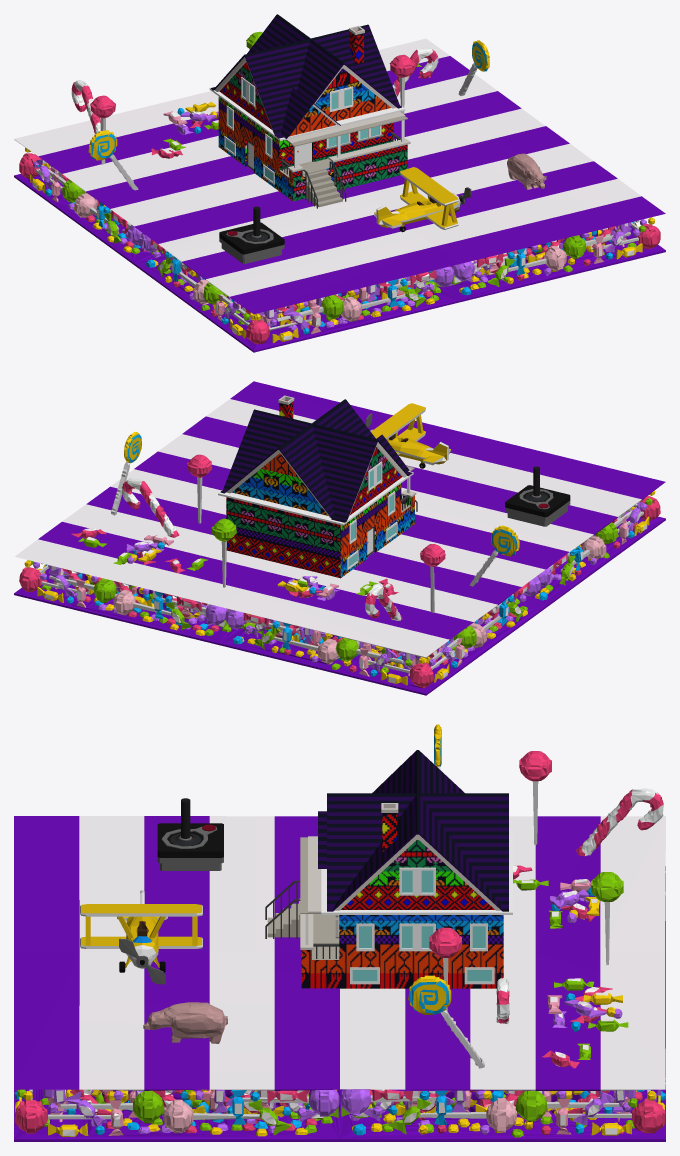
The picture shows the model from 3 angles, top to bottom: view 1: azimuth 30°, elevation 25°; view 2: azimuth 150°, elevation 25°; view 3: azimuth 270°, elevation 25°; orthographic projection. The views are drawn at different scales.
Visible parts, largest first — view 1: TERRAIN_CANDY, Cube.966, VEHICLES_AIRPLANE, OBJRANDOM_JOYSTICK, ANIMAL_HIPOPOTAMO; view 2: TERRAIN_CANDY, Cube.966, VEHICLES_AIRPLANE, OBJRANDOM_JOYSTICK; view 3: TERRAIN_CANDY, Cube.966, VEHICLES_AIRPLANE, OBJRANDOM_JOYSTICK, ANIMAL_HIPOPOTAMO.
Boxes of the visible parts, left/top/right/bottom form: TERRAIN_CANDY: left=14, top=31, right=665, bottom=352; Cube.966: left=209, top=14, right=410, bottom=208; VEHICLES_AIRPLANE: left=374, top=167, right=471, bottom=232; OBJRANDOM_JOYSTICK: left=219, top=206, right=284, bottom=263; ANIMAL_HIPOPOTAMO: left=507, top=153, right=546, bottom=189; TERRAIN_CANDY: left=14, top=381, right=665, bottom=695; Cube.966: left=218, top=395, right=417, bottom=578; VEHICLES_AIRPLANE: left=365, top=403, right=451, bottom=468; OBJRANDOM_JOYSTICK: left=505, top=466, right=570, bottom=526; TERRAIN_CANDY: left=14, top=724, right=665, bottom=1141; Cube.966: left=265, top=750, right=512, bottom=988; VEHICLES_AIRPLANE: left=80, top=890, right=202, bottom=984; OBJRANDOM_JOYSTICK: left=157, top=798, right=223, bottom=870; ANIMAL_HIPOPOTAMO: left=143, top=1002, right=227, bottom=1043.
Size of the model in its own units: 4059 by 1600 by 4000.
39 materials, 6 textured.
